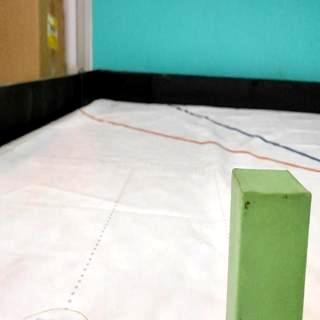greenbox: (225, 166, 312, 320)
